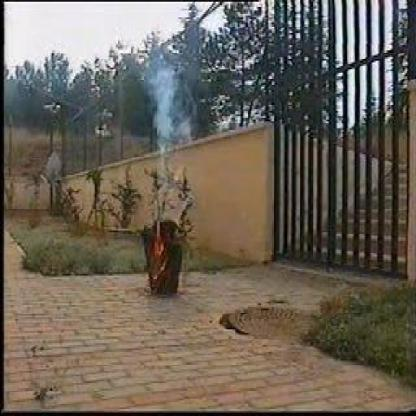-: (147, 52, 191, 168)
foggia-v2-map80-epoch100 - v1 4323: (152, 223, 168, 273)
